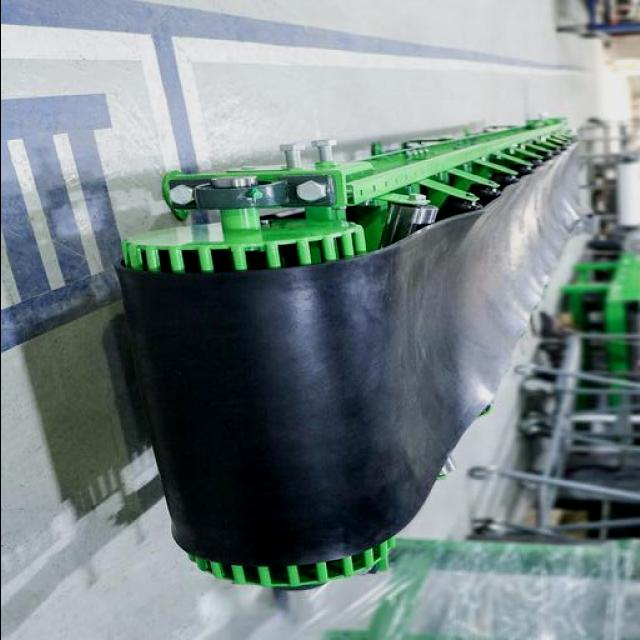conveyor: (119, 140, 585, 563)
